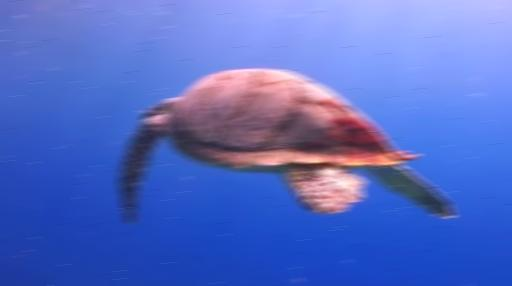Fish: (118, 69, 453, 222)
